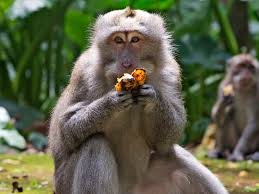monkey: (64, 16, 207, 193), (216, 40, 259, 166)
